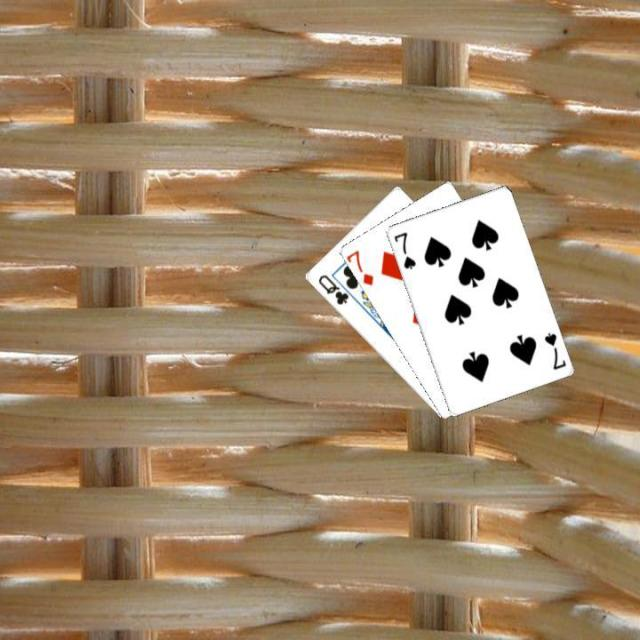7D: (343, 246, 375, 288)
7S: (540, 328, 568, 372), (389, 229, 418, 271)
QC: (314, 270, 350, 307)
